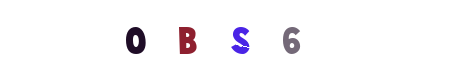6: (224, 0, 304, 80)
B: (190, 0, 270, 80)
O: (121, 0, 201, 80)
S: (200, 0, 280, 80)
